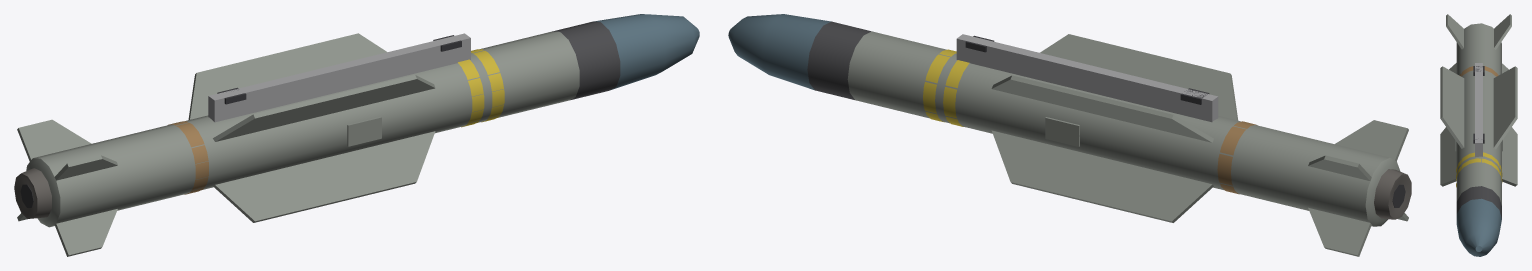
The model's file is agm_1.glb.
The picture shows the model from 3 angles, left to right: view 1: azimuth 30°, elevation 25°; view 2: azimuth 150°, elevation 25°; view 3: azimuth 270°, elevation 25°; orthographic projection. The views are drawn at different scales.
Parts seen in each view (by area): view 1: agm_1; view 2: agm_1; view 3: agm_1.
Part boxes in pixels (box(x1,y1,x2,y2)): agm_1: box(14, 14, 699, 256); agm_1: box(728, 14, 1411, 256); agm_1: box(1440, 14, 1517, 256).
Bounding box in the file's own units: 0.995 × 0.1541 × 0.1541.
